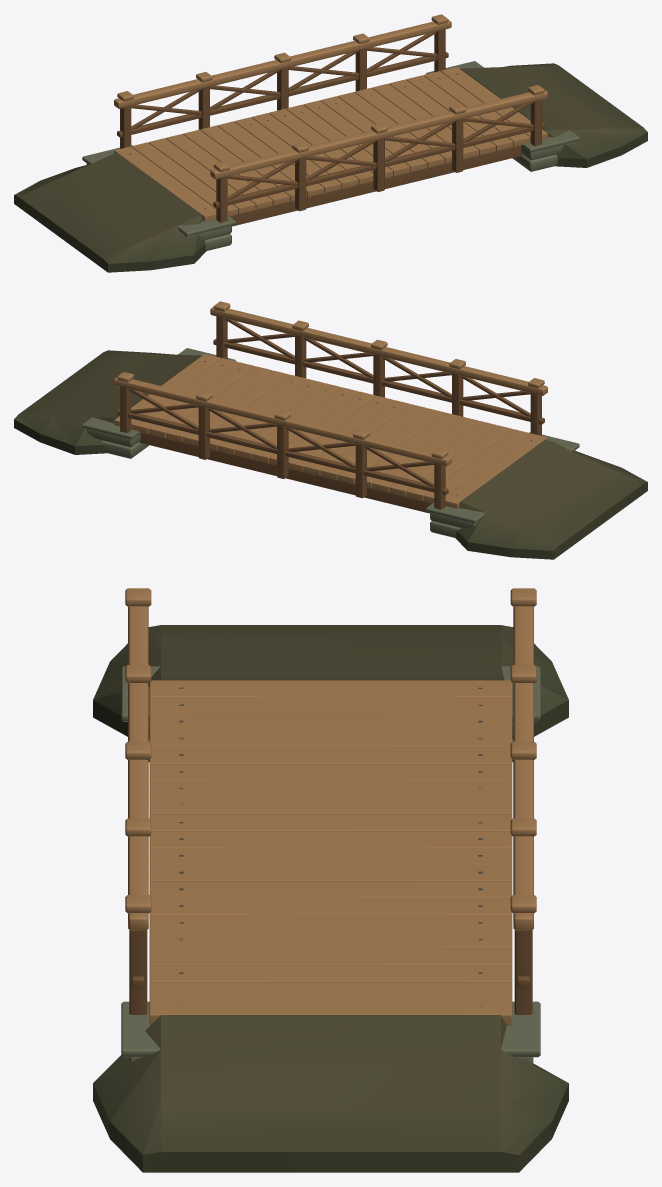
The model's file is reedwake-bridge.glb.
3 renders of one model, top to bottom at view 1: azimuth 30°, elevation 25°; view 2: azimuth 150°, elevation 25°; view 3: azimuth 270°, elevation 25°, orthographic. The views are drawn at different scales.
Visible parts, largest first — view 1: Bridge Honey oak planks, Bridge Warm moss stone, Bridge Old oak structure; view 2: Bridge Honey oak planks, Bridge Warm moss stone, Bridge Old oak structure; view 3: Bridge Honey oak planks, Bridge Warm moss stone, Bridge Old oak structure.
Boxes of the visible parts, <box> form: Bridge Honey oak planks: <box>114,14,547,221</box>; Bridge Warm moss stone: <box>14,61,647,272</box>; Bridge Old oak structure: <box>117,29,544,226</box>; Bridge Honey oak planks: <box>114,301,547,508</box>; Bridge Warm moss stone: <box>14,348,647,559</box>; Bridge Old oak structure: <box>117,316,544,513</box>; Bridge Honey oak planks: <box>125,588,536,1025</box>; Bridge Warm moss stone: <box>93,625,568,1172</box>; Bridge Old oak structure: <box>129,930,532,1014</box>.
Bounding box in the file's own units: 11 × 1.58 × 4.2.
